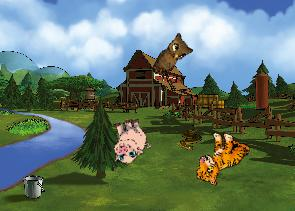owl: (150, 30, 197, 84)
pig: (105, 115, 152, 165)
tiger: (192, 126, 252, 192)
